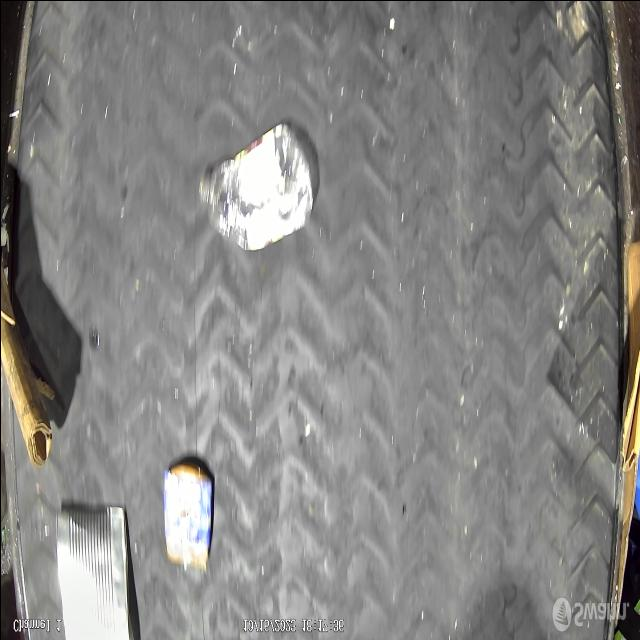can: (53, 505, 133, 640), (162, 456, 215, 572)
plastic_bottle: (197, 120, 314, 252)
